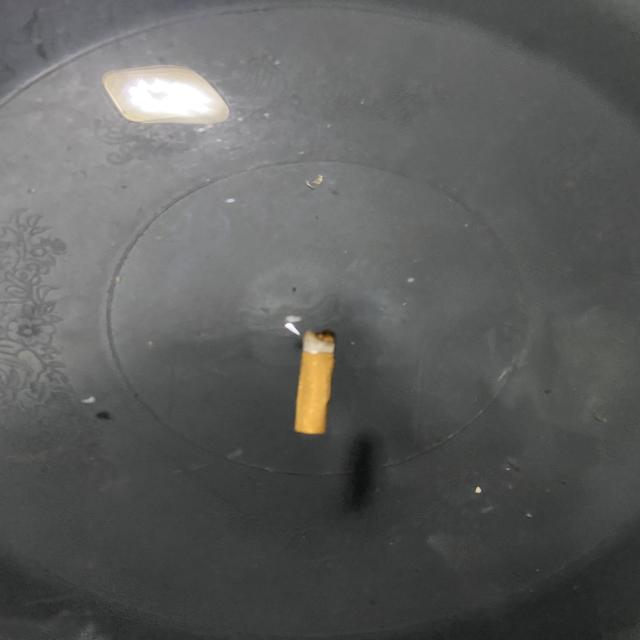Cigarette Filter: (286, 316, 348, 448)
